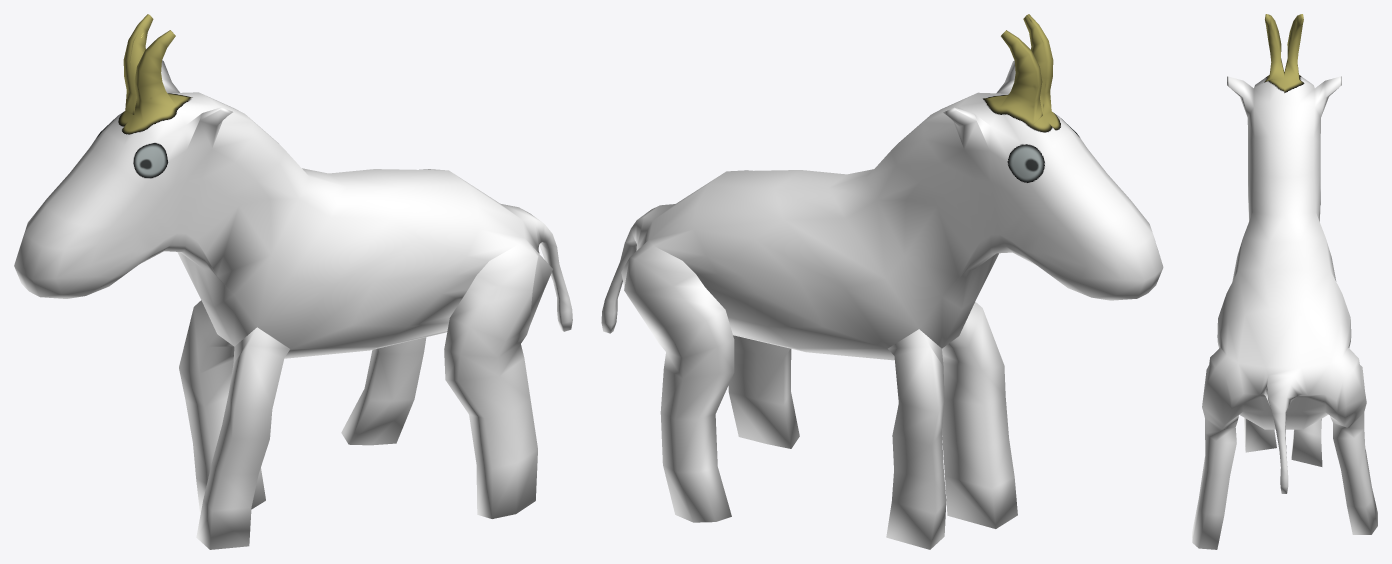
The model's file is goatAnim_000011.obj.
3 views of the same model, side by side, from view 1: azimuth 30°, elevation 25°; view 2: azimuth 150°, elevation 25°; view 3: azimuth 270°, elevation 25° (orthographic). The views are drawn at different scales.
Visible parts, largest first — view 1: Cube; view 2: Cube; view 3: Cube.
Boxes of the visible parts, <box> form: Cube: <box>14,14,572,549</box>; Cube: <box>601,14,1163,549</box>; Cube: <box>1192,14,1377,549</box>.
Bounding box in the file's own units: 1.31 × 1.2 × 0.4842.
